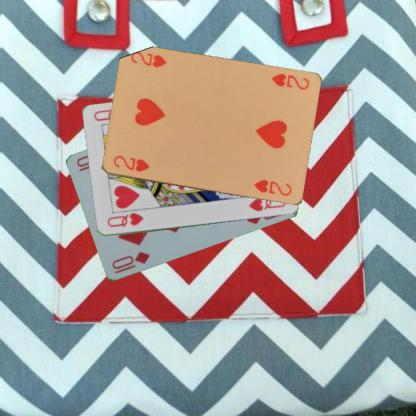10d: (109, 249, 151, 276)
2h: (110, 153, 151, 173), (269, 71, 310, 91)
Qh: (104, 210, 144, 229)
